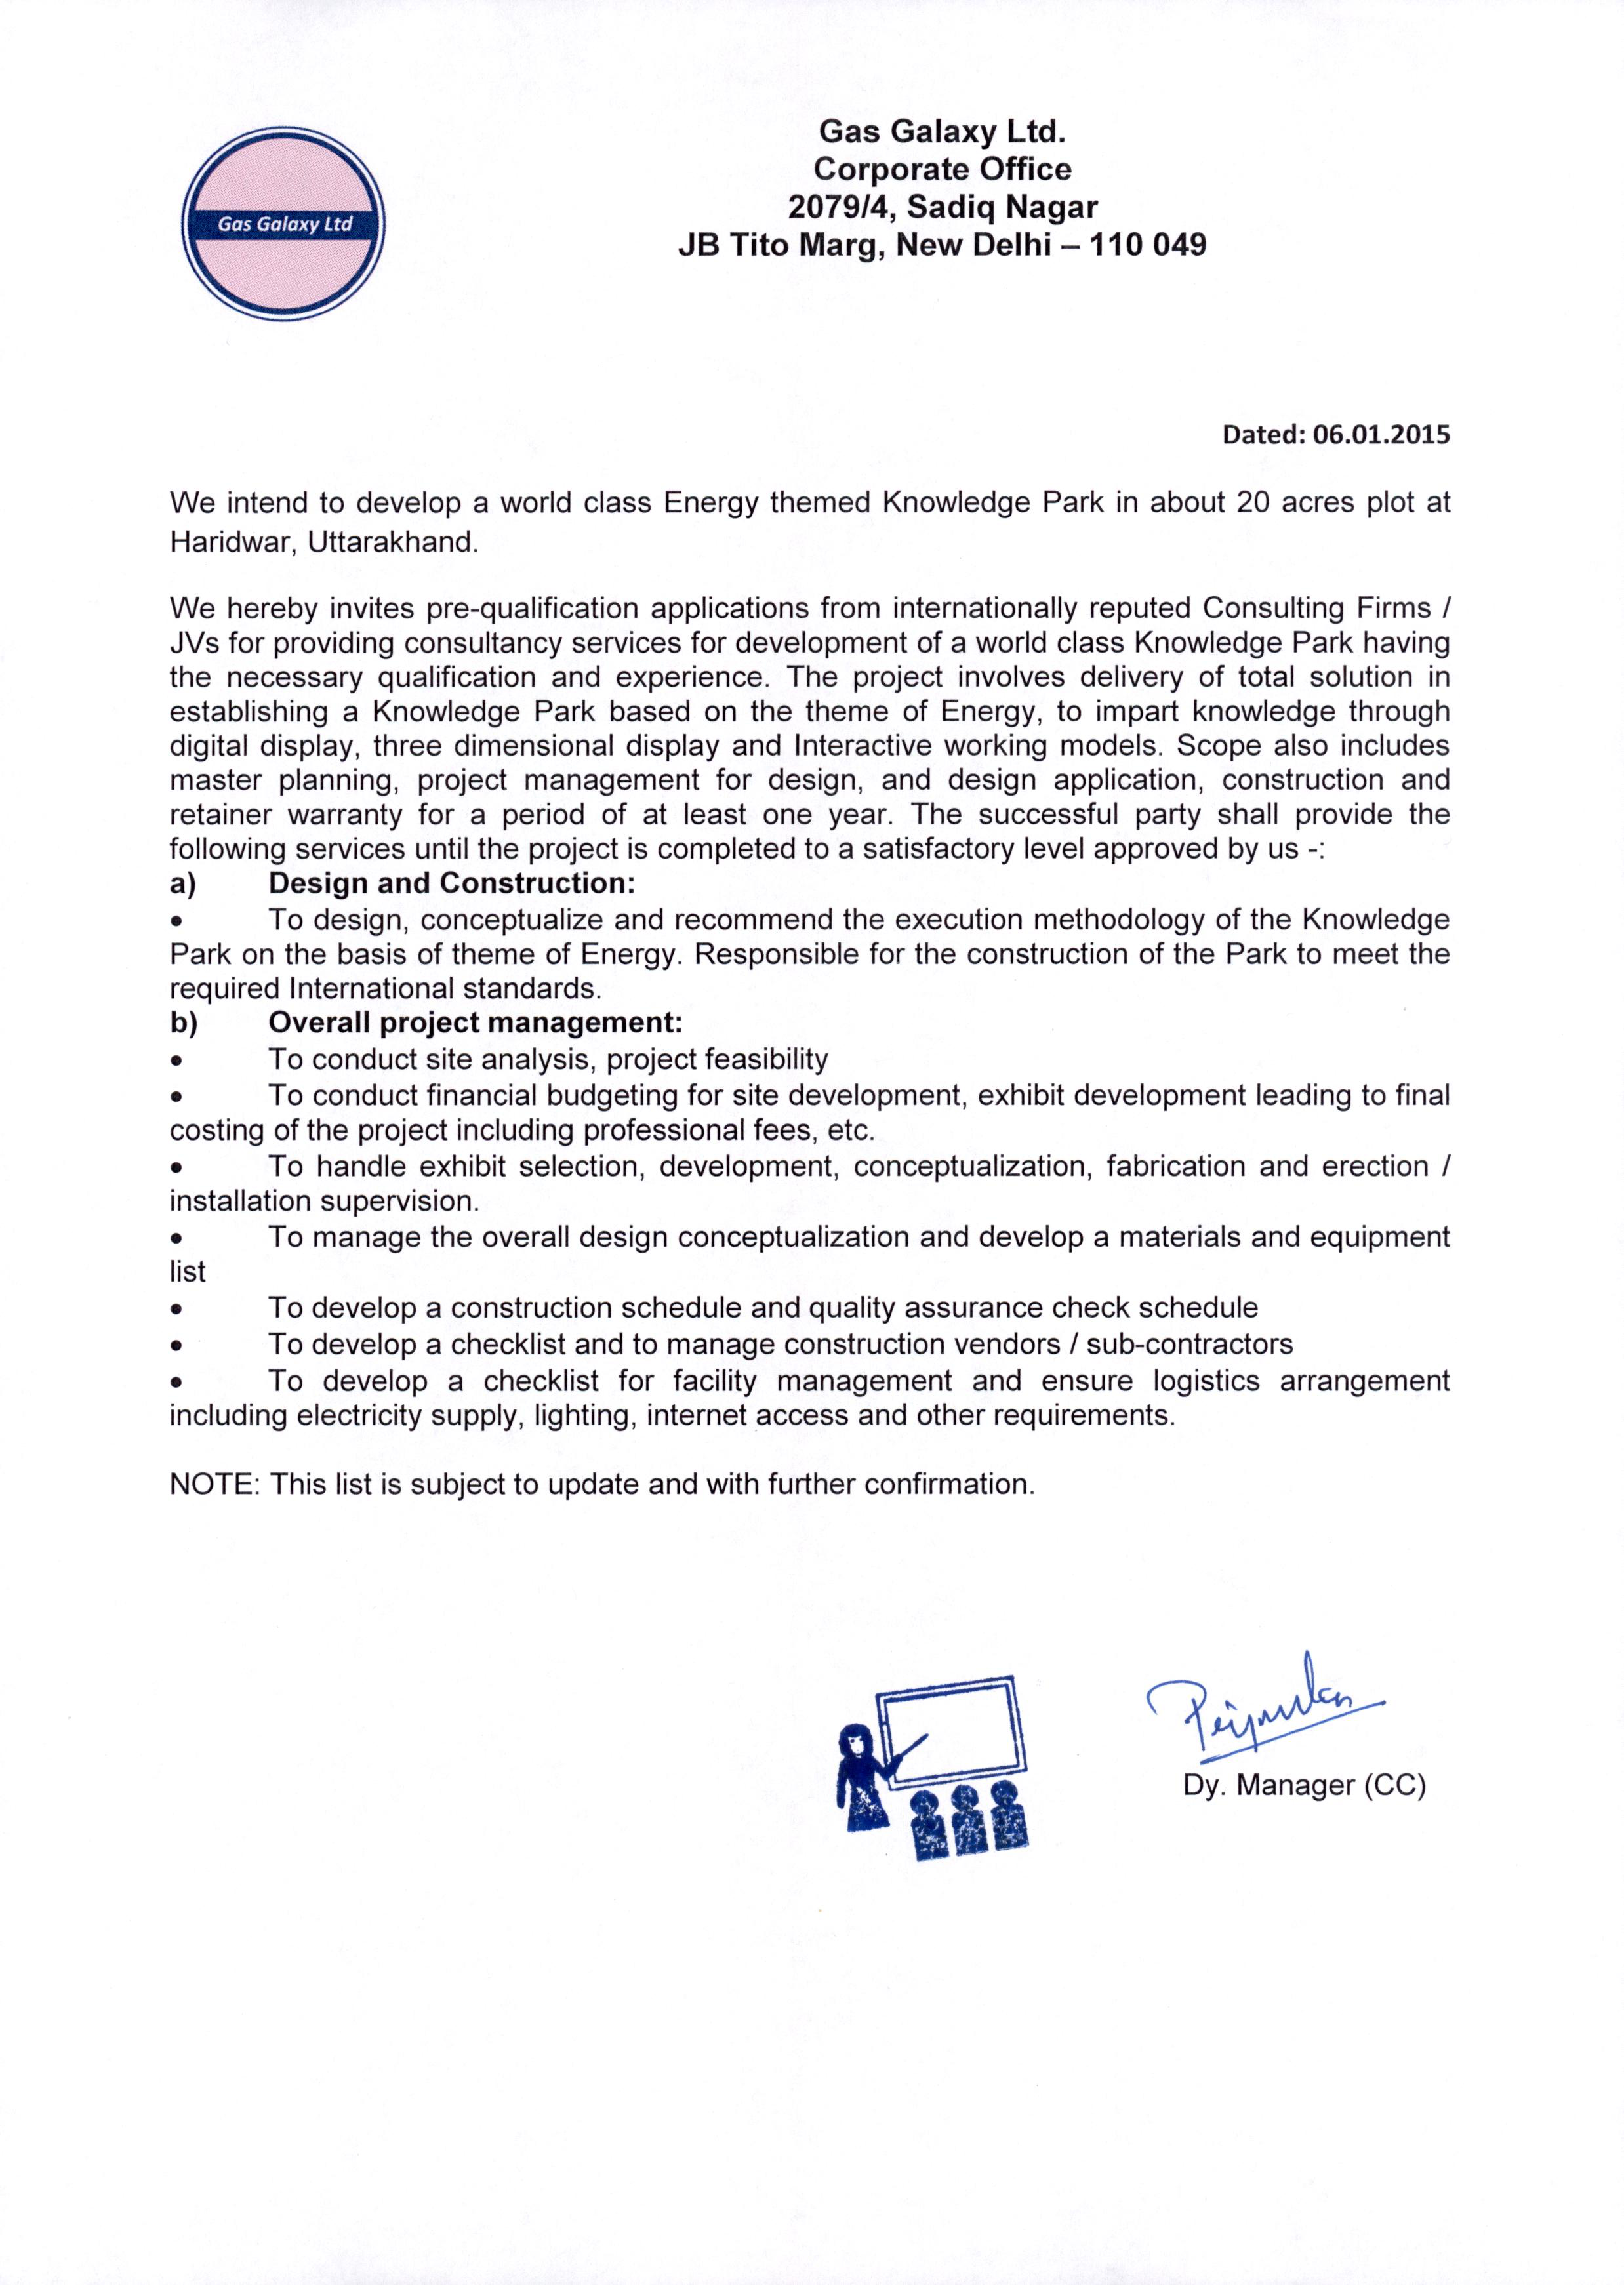Signature: (1135, 1642, 1399, 1768)
